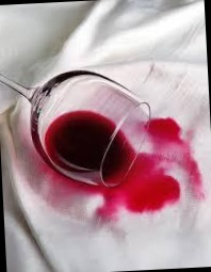wine: (42, 147, 182, 214), (141, 114, 200, 205)
